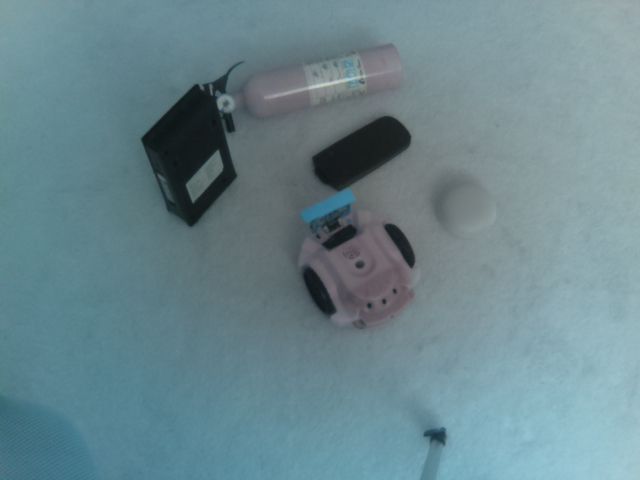board: (298, 186, 357, 231)
chassis: (293, 186, 420, 332)
